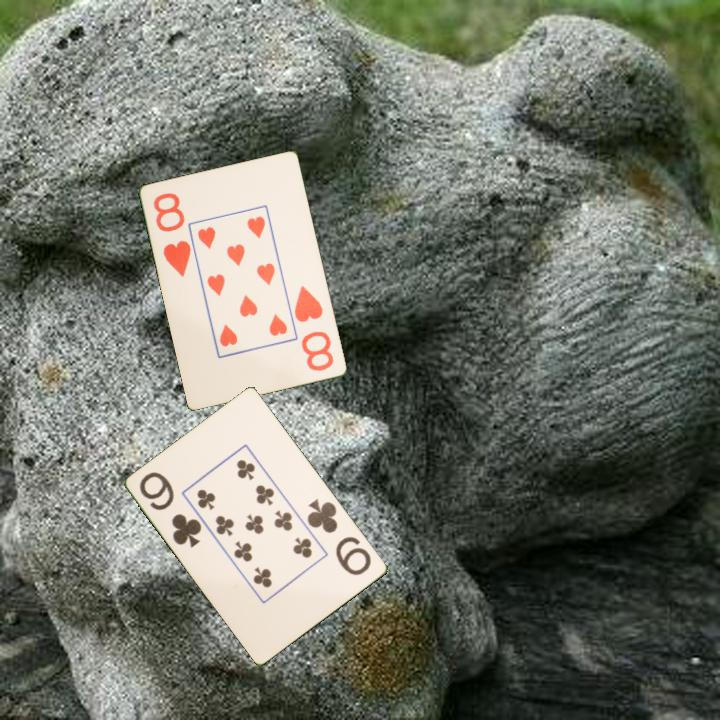8h: (291, 282, 337, 374), (150, 189, 194, 280)
9c: (304, 495, 375, 579), (136, 468, 205, 551)
